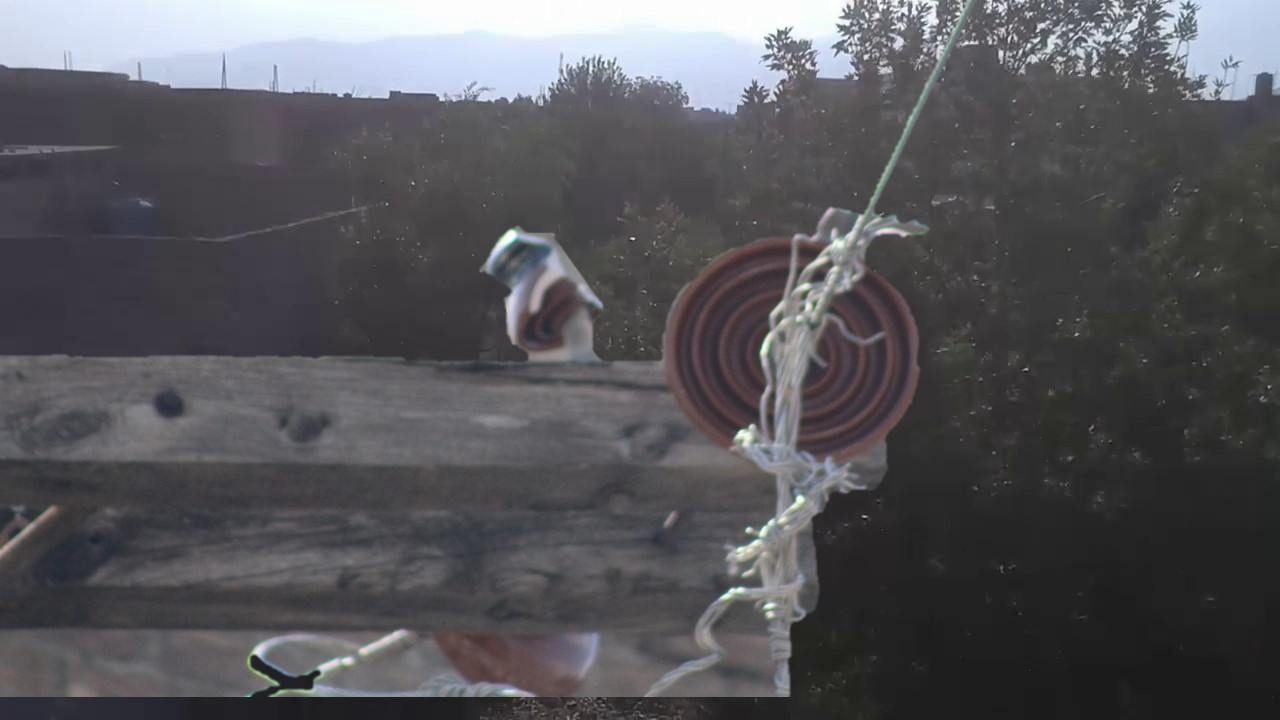defect_pin: (474, 217, 610, 360)
insulator_disc: (659, 226, 925, 475)
